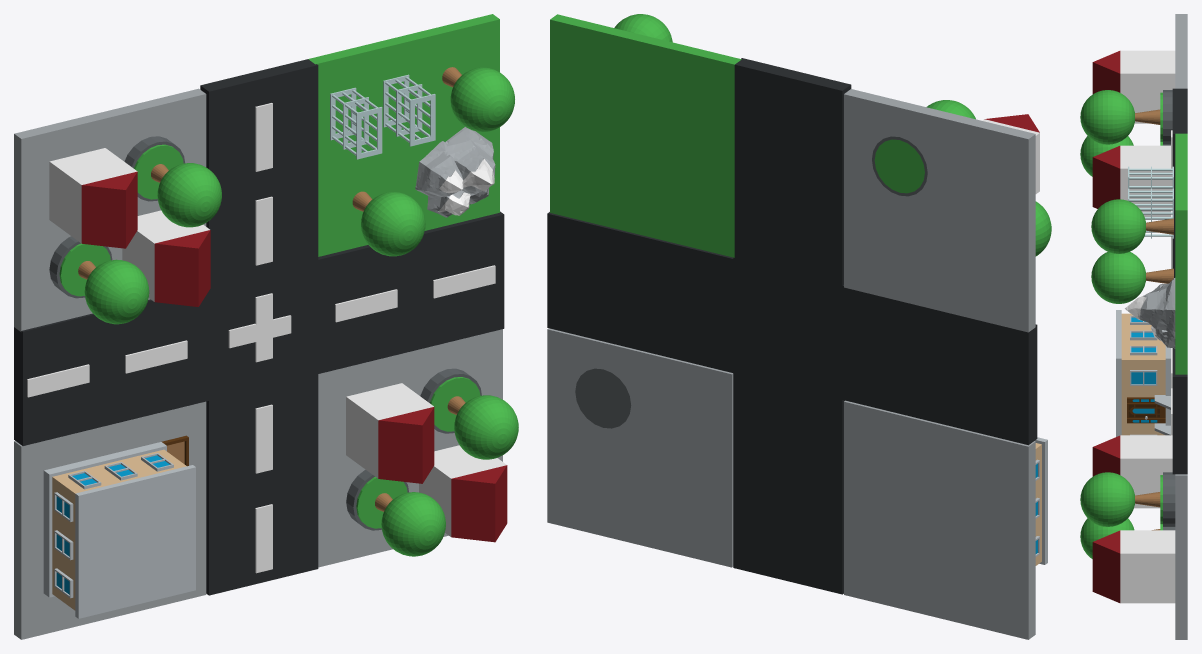
File: tinker.obj
The picture shows the model from 3 angles, left to right: view 1: azimuth 30°, elevation 25°; view 2: azimuth 150°, elevation 25°; view 3: azimuth 270°, elevation 25°; orthographic projection. The views are drawn at different scales.
Parts seen in each view (by area): view 1: group_0_2829873, group_0_10988977, group_0_4634441, group_0_16448250, group_0_12568524, group_0_9771553, group_0_13034212, group_0_14860437, group_0_6383466, group_0_11107152, group_0_40919; view 2: group_0_10988977, group_0_2829873, group_0_4634441, group_0_6383466, group_0_12568524; view 3: group_0_4634441, group_0_16448250, group_0_9771553, group_0_10988977, group_0_2829873, group_0_14860437, group_0_12568524, group_0_13034212, group_0_11107152, group_0_6383466, group_0_40919, group_0_6306067 (+1 smaller).
Boxes of the visible parts, x1,y1,x2,y2 form: group_0_2829873: (14, 59, 504, 595); group_0_10988977: (14, 88, 502, 639); group_0_4634441: (59, 14, 518, 556); group_0_16448250: (27, 103, 506, 573); group_0_12568524: (43, 442, 195, 618); group_0_9771553: (81, 171, 507, 542); group_0_13034212: (330, 74, 435, 159); group_0_14860437: (52, 449, 186, 610); group_0_6383466: (49, 136, 481, 530); group_0_11107152: (78, 67, 465, 511); group_0_40919: (56, 455, 169, 594); group_0_10988977: (547, 89, 1035, 639); group_0_2829873: (547, 58, 1037, 594); group_0_4634441: (550, 14, 1051, 257); group_0_6383466: (575, 136, 927, 428); group_0_12568524: (1035, 437, 1047, 564); group_0_4634441: (1080, 90, 1187, 558); group_0_16448250: (1120, 50, 1175, 603); group_0_9771553: (1092, 51, 1120, 602); group_0_10988977: (1140, 14, 1187, 639); group_0_2829873: (1172, 88, 1187, 474); group_0_14860437: (1121, 313, 1165, 435); group_0_12568524: (1116, 310, 1170, 436); group_0_13034212: (1128, 166, 1173, 238); group_0_11107152: (1135, 109, 1173, 530); group_0_6383466: (1163, 90, 1175, 530); group_0_40919: (1131, 317, 1157, 422); group_0_6306067: (1127, 397, 1165, 423).
Size of the model in its own units: 172 by 172 by 39.
